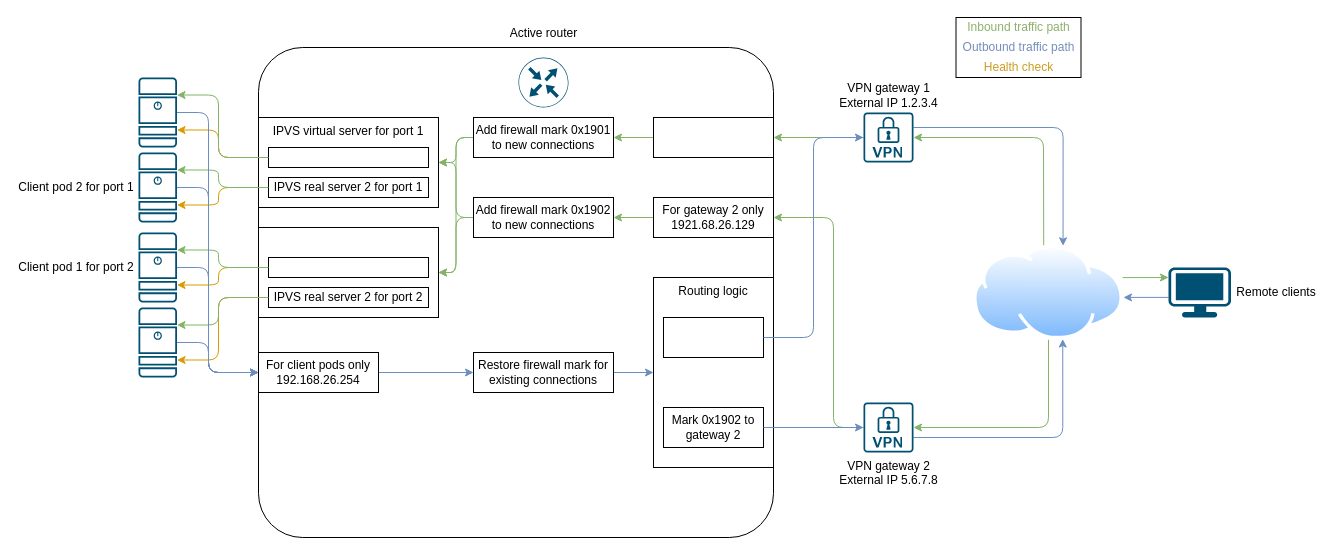
This 1333x555 diagram has some shape labels left out. The shapes that lost their labels are listed below. From the top down, each one's box as (x1, y1, x2, y2) in pixels, then its label:
(138, 77, 176, 147): Client pod 1 for port 1
(268, 146, 428, 168): IPVS real server 1 for port 1
(652, 116, 774, 158): For gateway 1 only 192.168.26.128
(268, 256, 428, 278): IPVS real server 1 for port 2
(258, 226, 438, 318): IPVS virtual server for port 2
(973, 245, 1123, 339): Internet
(138, 307, 176, 377): Client pod 2 for port 2
(662, 316, 764, 358): Mark 0x1901 to gateway 1
